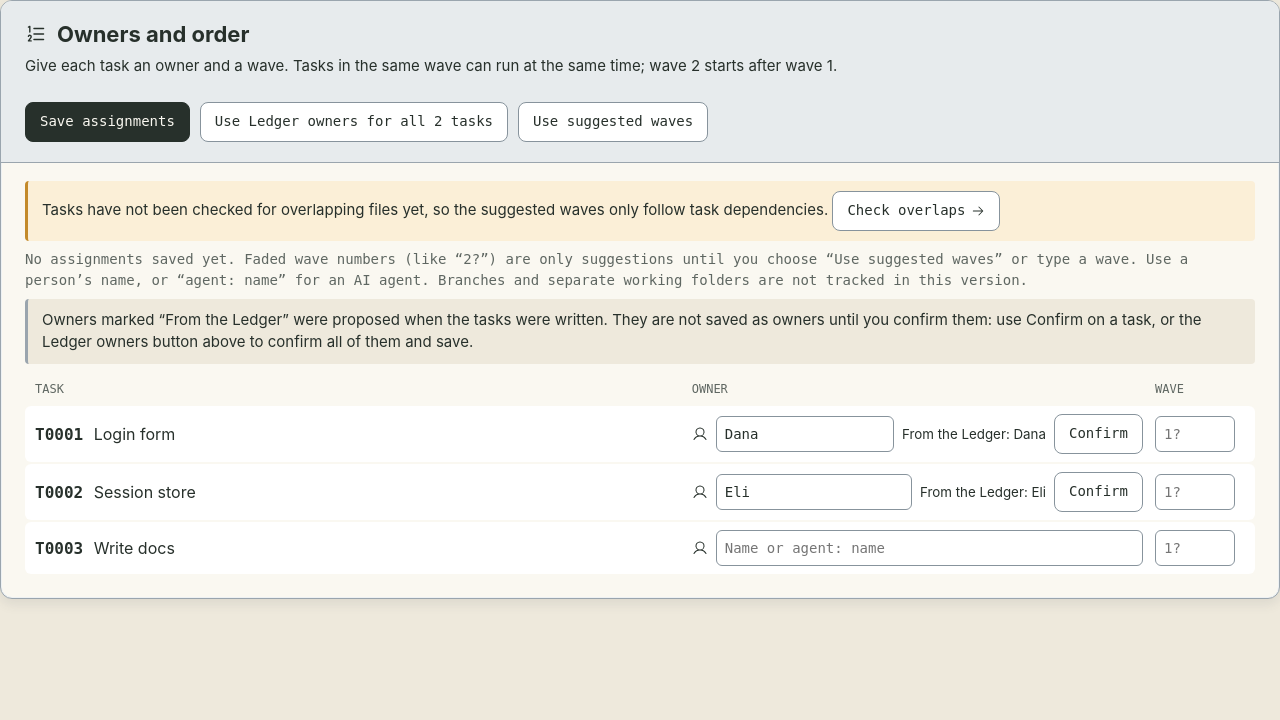
Test case: allocation pre-fills Ledger proposed owners but records them only after the person confirms
Expected: the field named "Owner for T0001" holds "Dana", x1=716 y1=416 x2=894 y2=452
Expected: the field named "Owner for T0002" holds "Eli", x1=716 y1=474 x2=912 y2=510
# A proposal is not a decision: saving without confirming records no owner.
What coordinates should you click on to do the following:
click the button "Save assignments"
I would click on:
 (107, 122)
Its box is x1=25 y1=102 x2=190 y2=142.
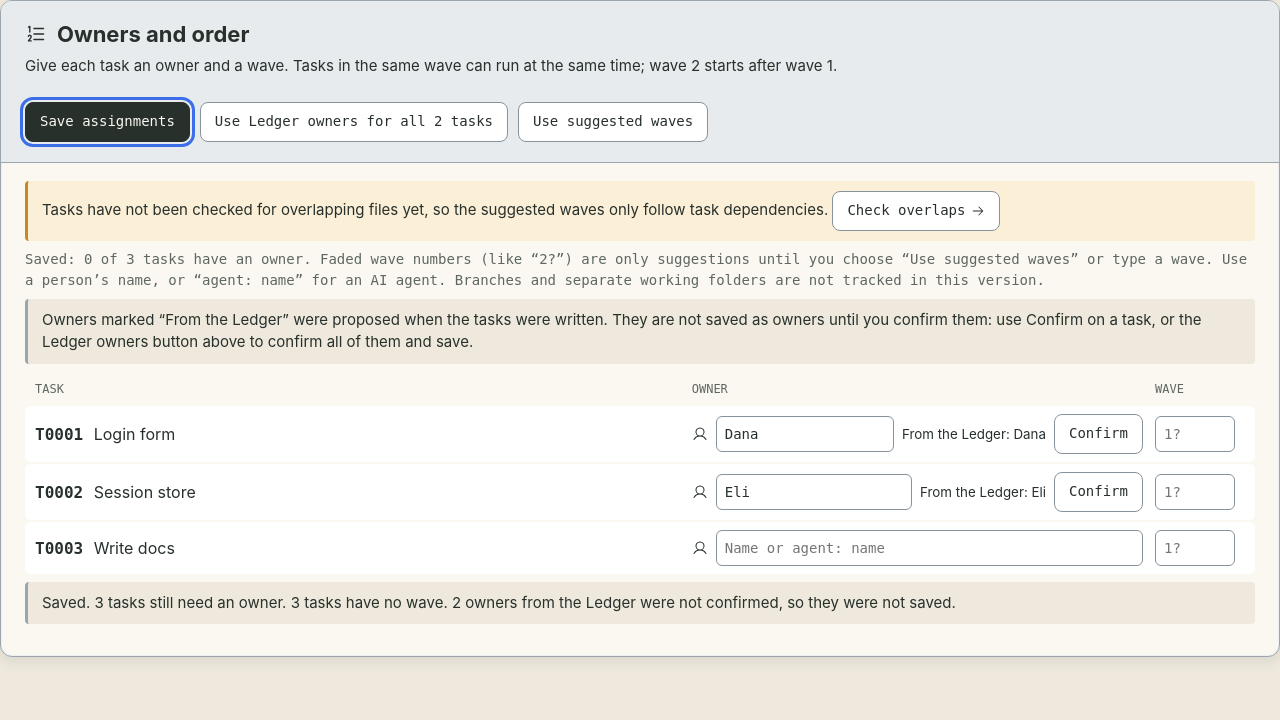
Now the text "2 owners from the Ledger were not confirmed, so they were not saved" is shown, box x1=42 y1=592 x2=956 y2=612
What coordinates should you click on to do the following:
click the button "Use Ledger owners for all 2 tasks"
I would click on:
 (354, 122)
Its box is x1=200 y1=102 x2=508 y2=142.
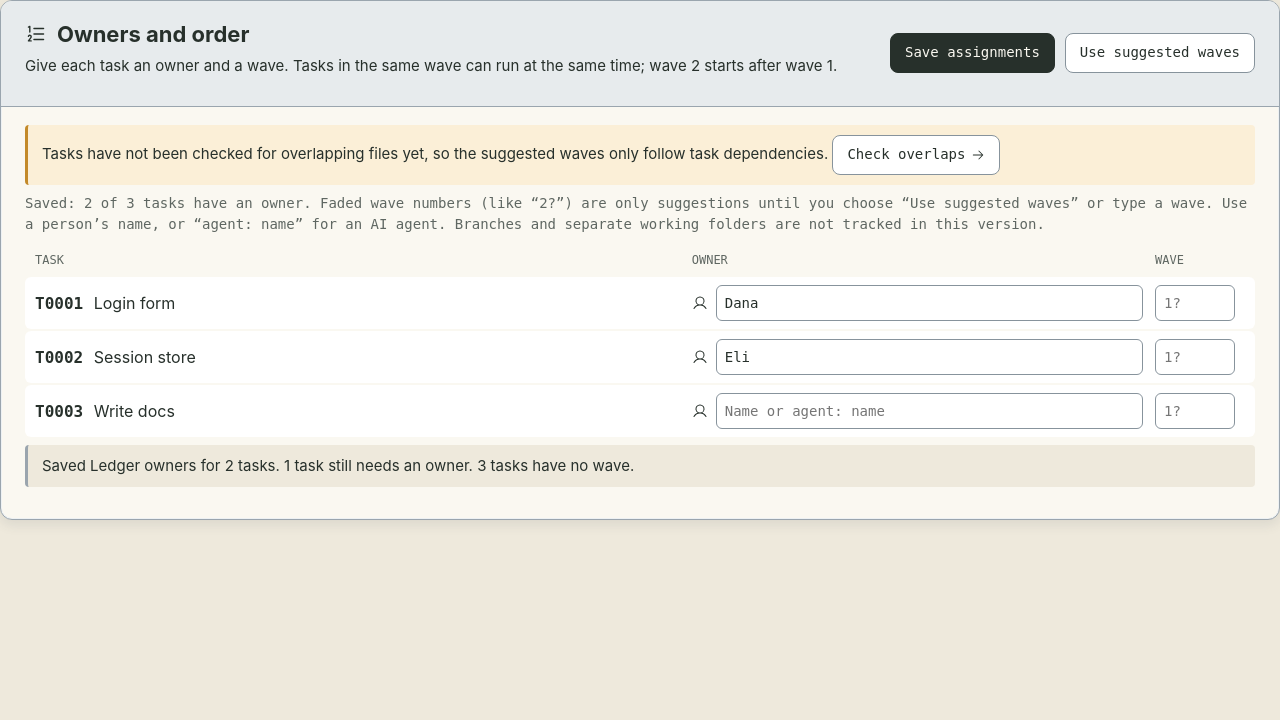
Now the text "Saved Ledger owners for 2 tasks" is shown, box x1=42 y1=456 x2=634 y2=474
Now the text "From the Ledger: Dana" is gone
Now the button "Use Ledger owner" is gone
